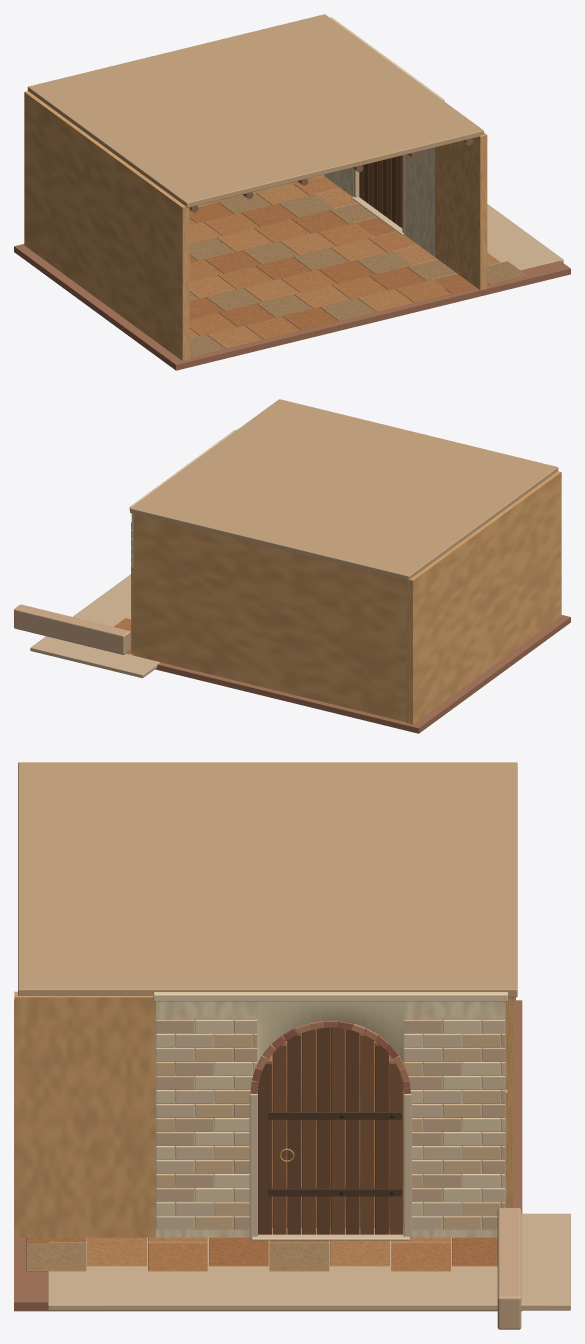
Rendered from skete-cell.glb.
The picture shows the model from 3 angles, top to bottom: view 1: azimuth 30°, elevation 25°; view 2: azimuth 150°, elevation 25°; view 3: azimuth 270°, elevation 25°; orthographic projection. The views are drawn at different scales.
Visible parts, largest first — view 1: skete-cell, ground-cell, jamb (×2), door:cell, cell-door-wall; view 2: skete-cell, cell-back, ground-cell; view 3: skete-cell, jamb (×2), door:cell, ground-cell, cell-door-wall, cell-back.
Boxes of the visible parts, x1=… form: skete-cell: x1=24, y1=14, x2=563, y2=360; ground-cell: x1=14, y1=176, x2=570, y2=370; jamb (×2): x1=324, y1=147, x2=434, y2=256; door:cell: x1=359, y1=155, x2=402, y2=228; cell-door-wall: x1=330, y1=17, x2=444, y2=234; skete-cell: x1=14, y1=399, x2=561, y2=724; cell-back: x1=133, y1=514, x2=406, y2=721; ground-cell: x1=114, y1=615, x2=570, y2=733; skete-cell: x1=14, y1=762, x2=570, y2=1329; jamb (×2): x1=155, y1=1001, x2=505, y2=1237; door:cell: x1=258, y1=1028, x2=403, y2=1234; ground-cell: x1=14, y1=1000, x2=522, y2=1311; cell-door-wall: x1=153, y1=992, x2=507, y2=1240; cell-back: x1=505, y1=997, x2=512, y2=1207.
Size of the model in its own units: 21.25 by 7.69 by 15.12.
Materials: 30 (7 with a texture image).
